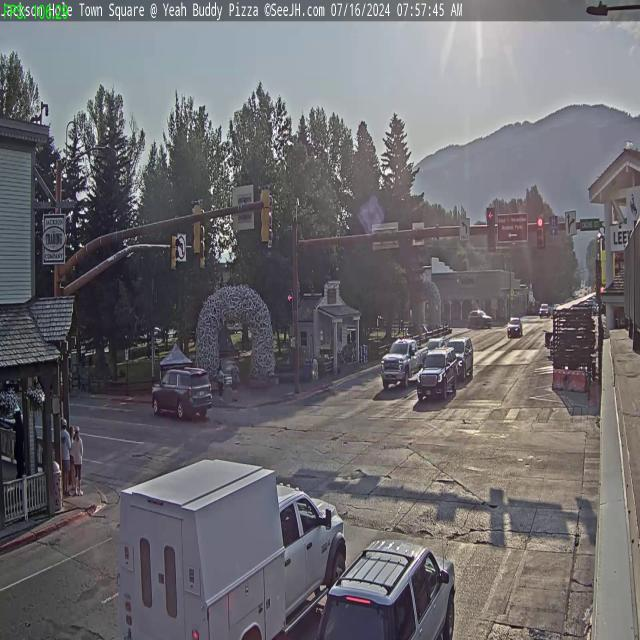person: (70, 426, 82, 492), (60, 416, 69, 494), (230, 358, 240, 403), (217, 358, 226, 402)
pickup: (381, 336, 420, 388)
suv: (325, 532, 467, 640), (152, 361, 211, 422), (416, 348, 457, 409), (443, 338, 475, 382), (507, 315, 522, 336)
traffic light: (260, 184, 272, 245), (191, 199, 203, 256), (487, 207, 496, 255), (170, 233, 180, 272), (536, 215, 545, 247)
truck: (114, 450, 347, 639)
